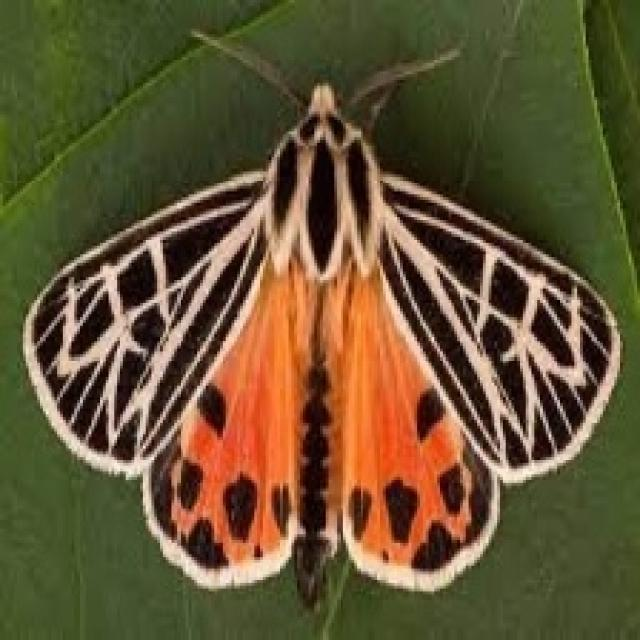butterfly: (17, 23, 623, 611)
